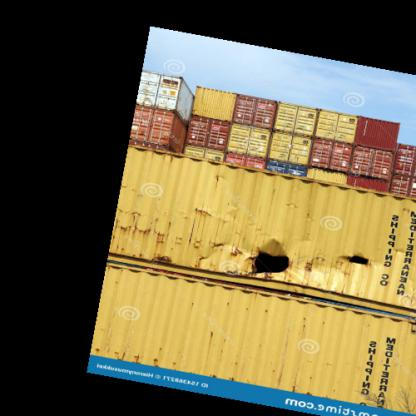Damage: (104, 218, 232, 257), (321, 242, 386, 276), (242, 241, 296, 278)
